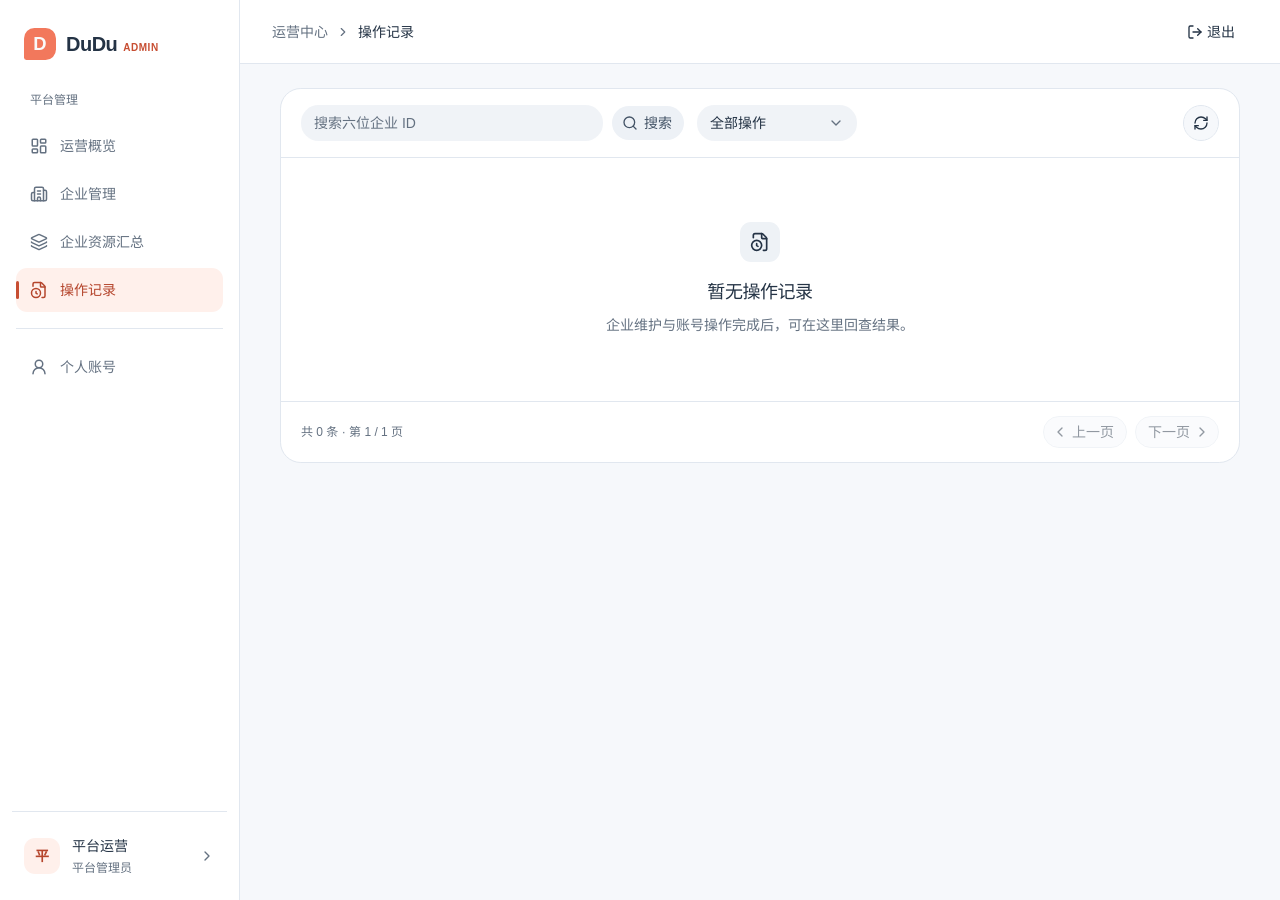
Test case: 空态清除筛选是外部重置：草稿、校验错误与已应用条件一并清除
The image size is (1280, 900).
Expected: the text "暂无操作记录" is shown, [707,278,813,306]
Note: 先应用有效 ID，进入筛选空态
Type "123456" into the field labelled "企业 ID".
click(452, 123); type("123456")  # box [301,105,603,141]
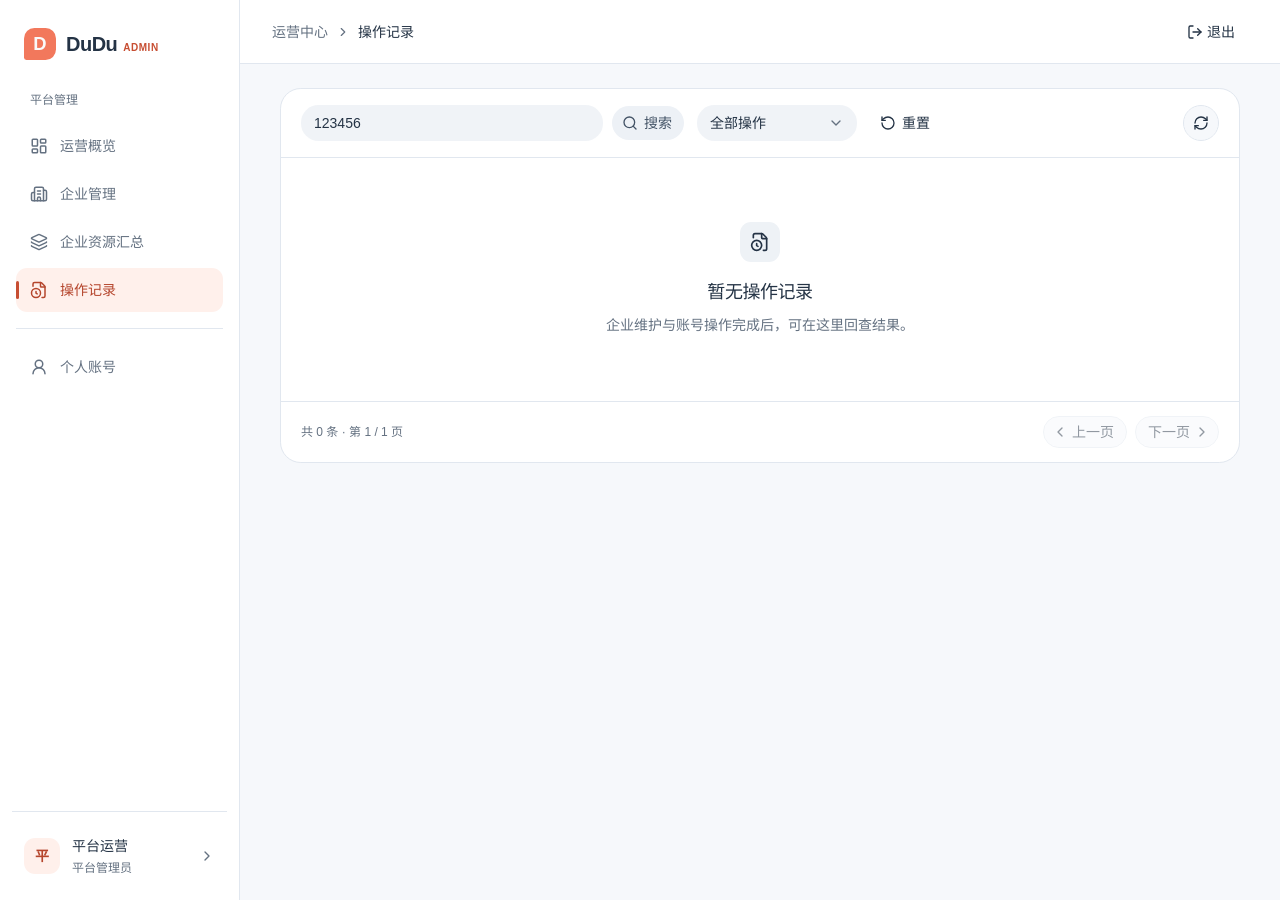
Click the button "搜索".
click(648, 123)  # box [611,105,685,141]
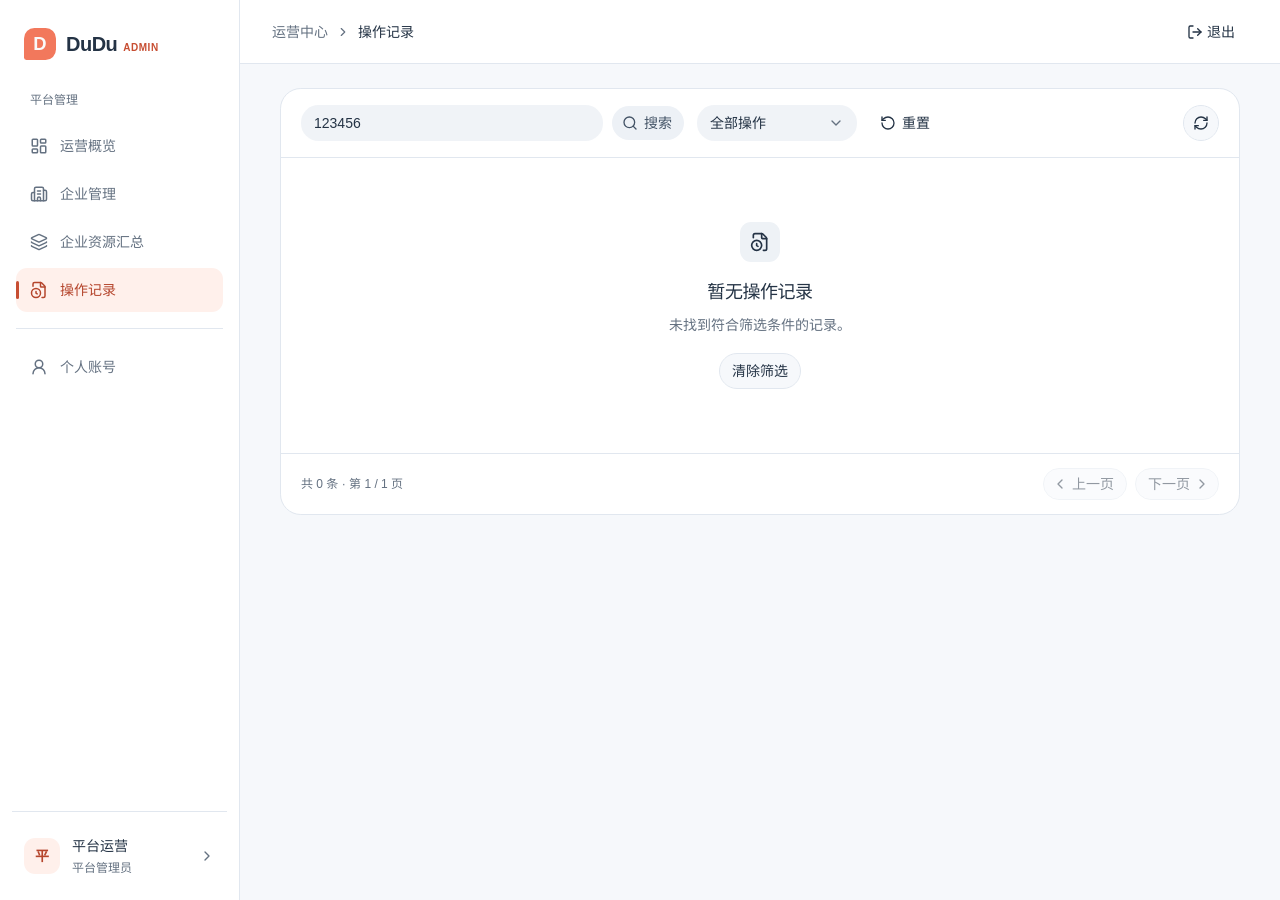
Now the text "未找到符合筛选条件的记录。" is shown, box [669,314,851,337]
Note: 再提交无效草稿，出现校验错误（已应用条件不变，清除按钮仍可见）
Replace the text in the field named "企业 ID" with "123" at (452, 123), box [301,105,603,141]
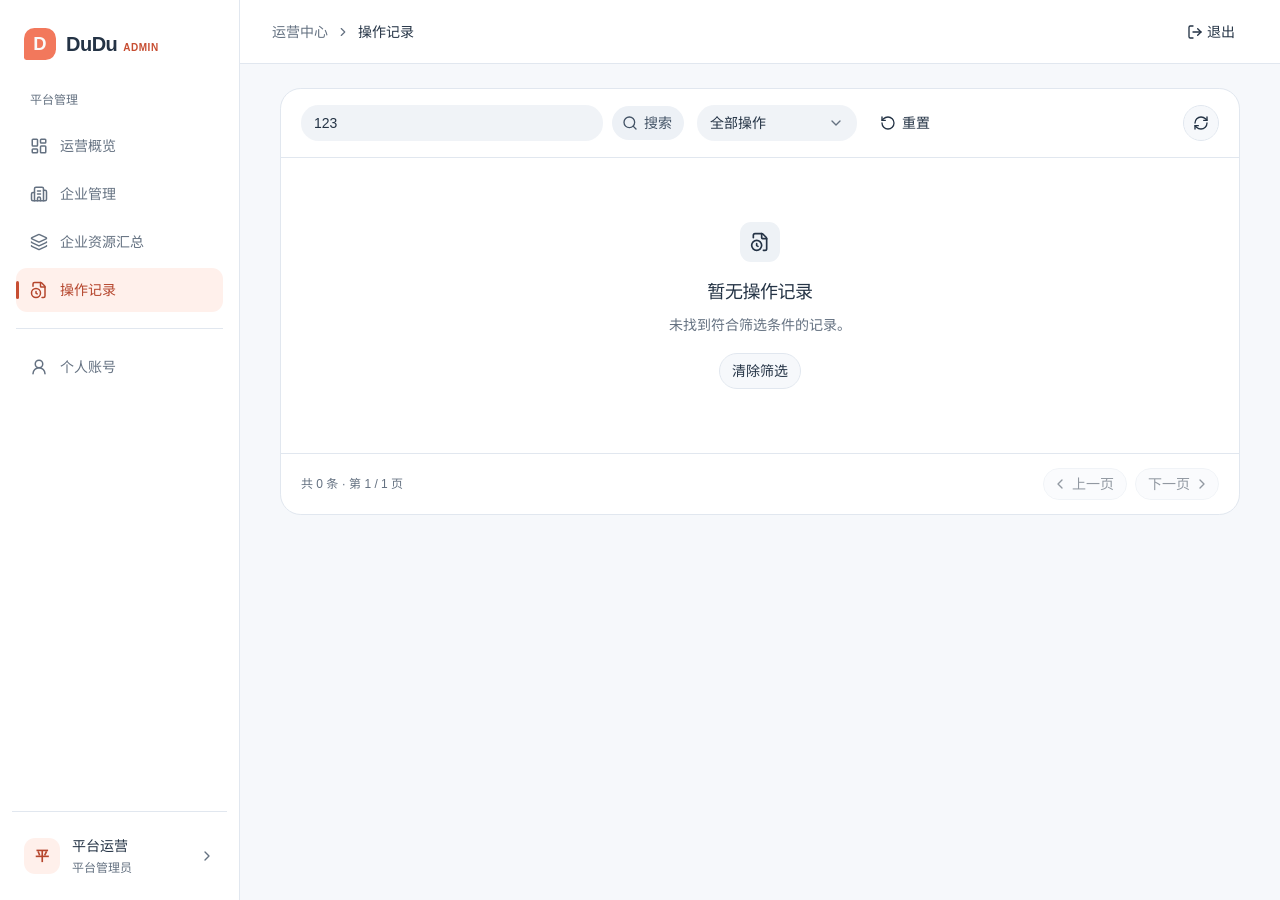
Click the button "搜索".
click(648, 123)  # box [611,105,685,141]
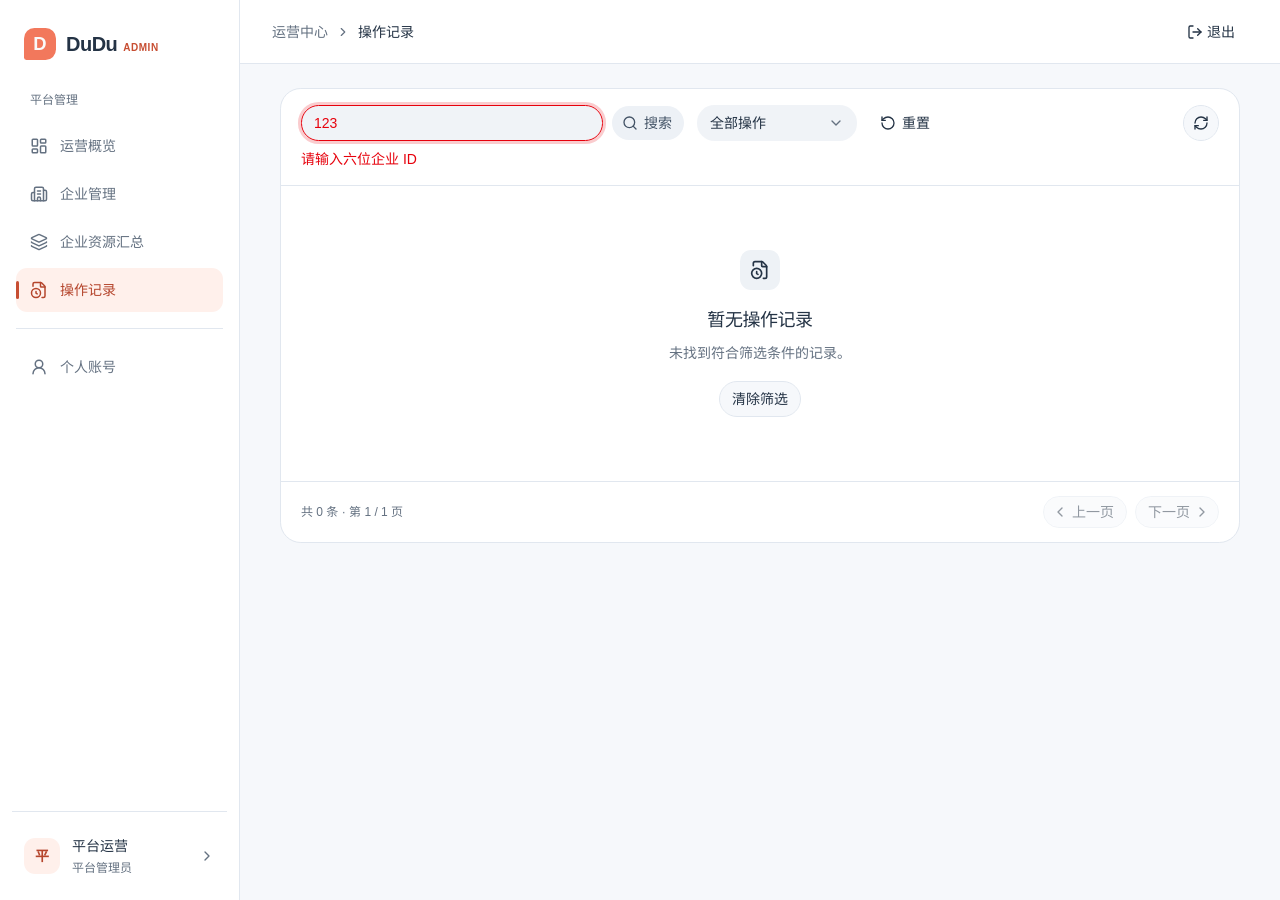
Now the text "请输入六位企业 ID" is shown, box [301,151,417,167]
Note: 空态「清除筛选」走 query.reset：value 外部回空，草稿与校验错误一并清除
Click the button "清除筛选".
click(760, 399)  # box [719,381,801,417]
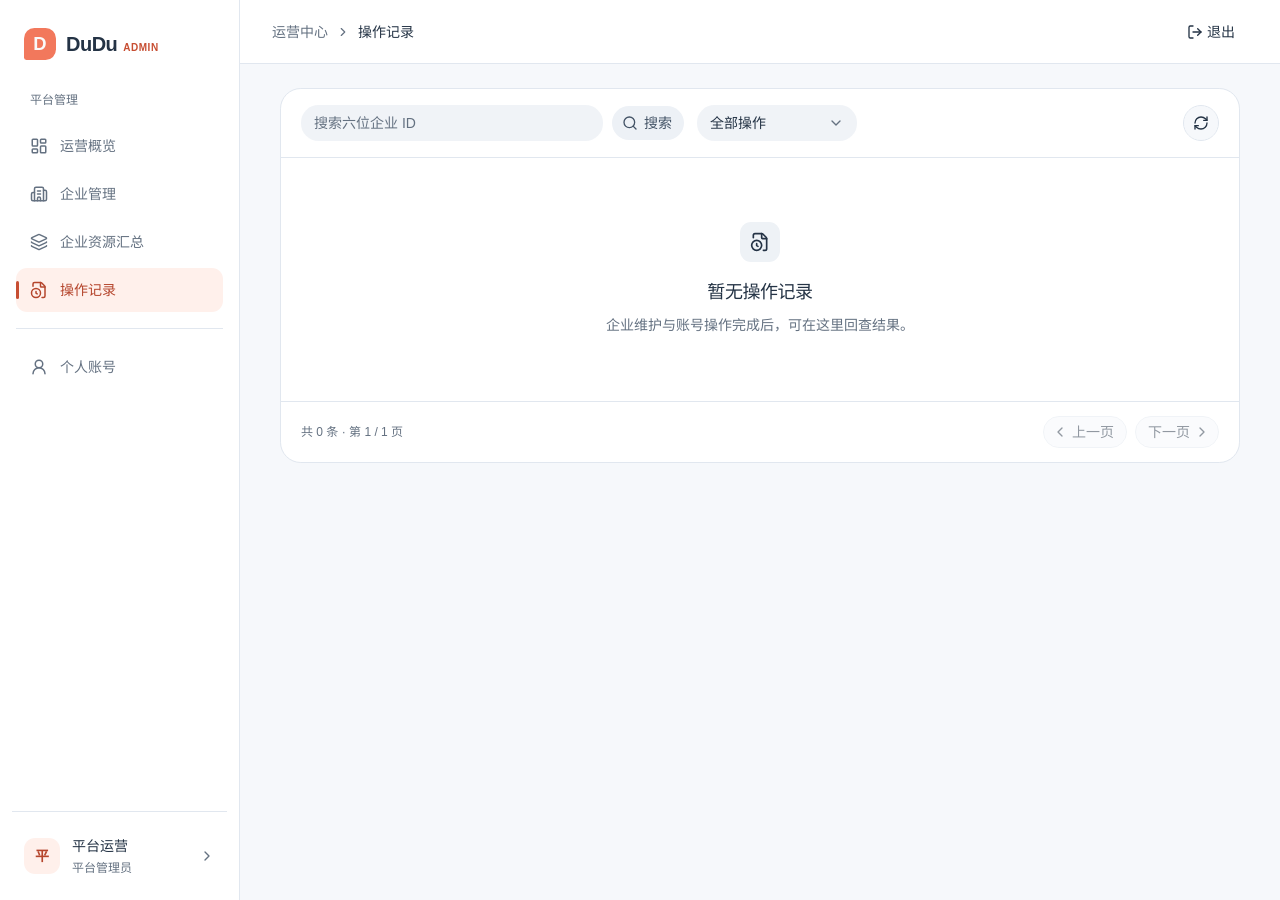
Now the text "企业维护与账号操作完成后，可在这里回查结果。" is shown, box [606,314,914,337]
Now the field labelled "企业 ID" is empty, box [301,105,603,141]
Now the text "请输入六位企业 ID" is gone
